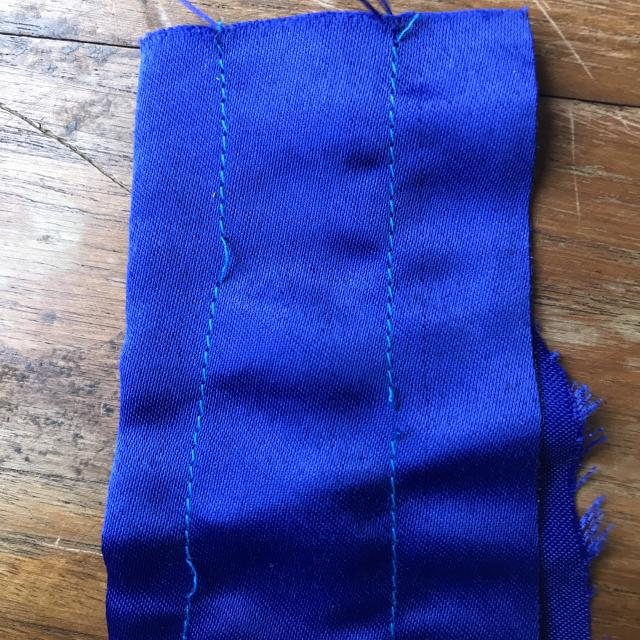broken: (364, 361, 425, 462)
good: (365, 161, 424, 276)
skip: (171, 537, 219, 608), (202, 210, 240, 298)
